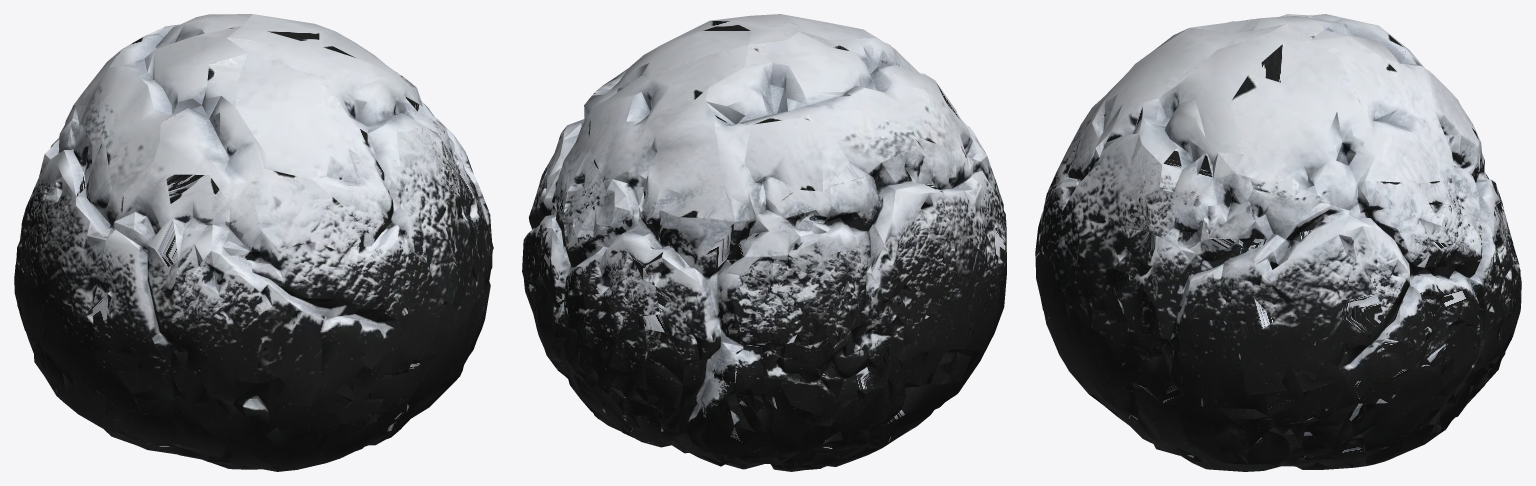
File: prop_boulder-high.glb
3 views of the same model, side by side, from view 1: azimuth 30°, elevation 25°; view 2: azimuth 150°, elevation 25°; view 3: azimuth 270°, elevation 25° (orthographic).
Visible parts, largest first — view 1: Mesh_0; view 2: Mesh_0; view 3: Mesh_0.
Part boxes in pixels (x1,y1,x2,y2): Mesh_0: (14, 14, 493, 471); Mesh_0: (522, 14, 1006, 471); Mesh_0: (1035, 14, 1521, 471).
Size of the model in its own units: 1.9 by 1.7 by 1.9.
1 material, 1 textured.
